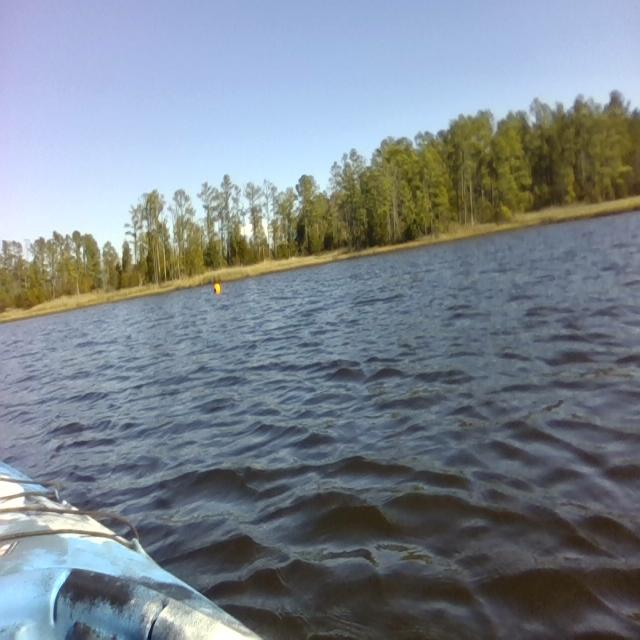Buoy: (208, 275, 230, 301)
